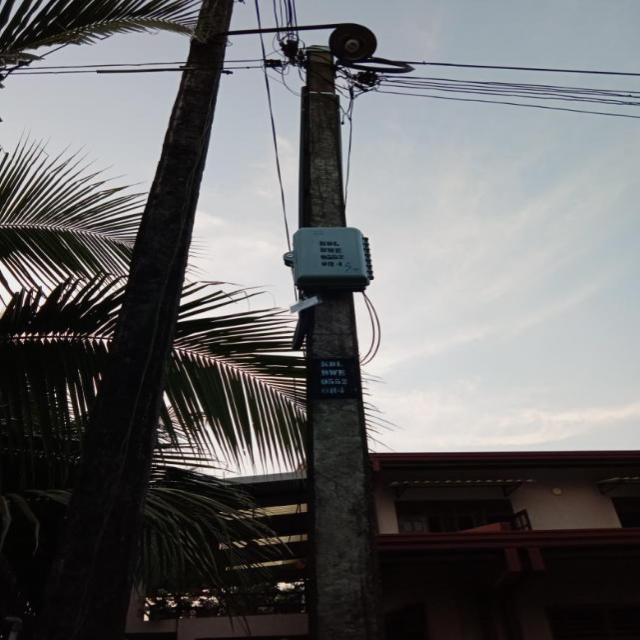light_pole: (40, 2, 235, 636), (285, 25, 394, 640)
